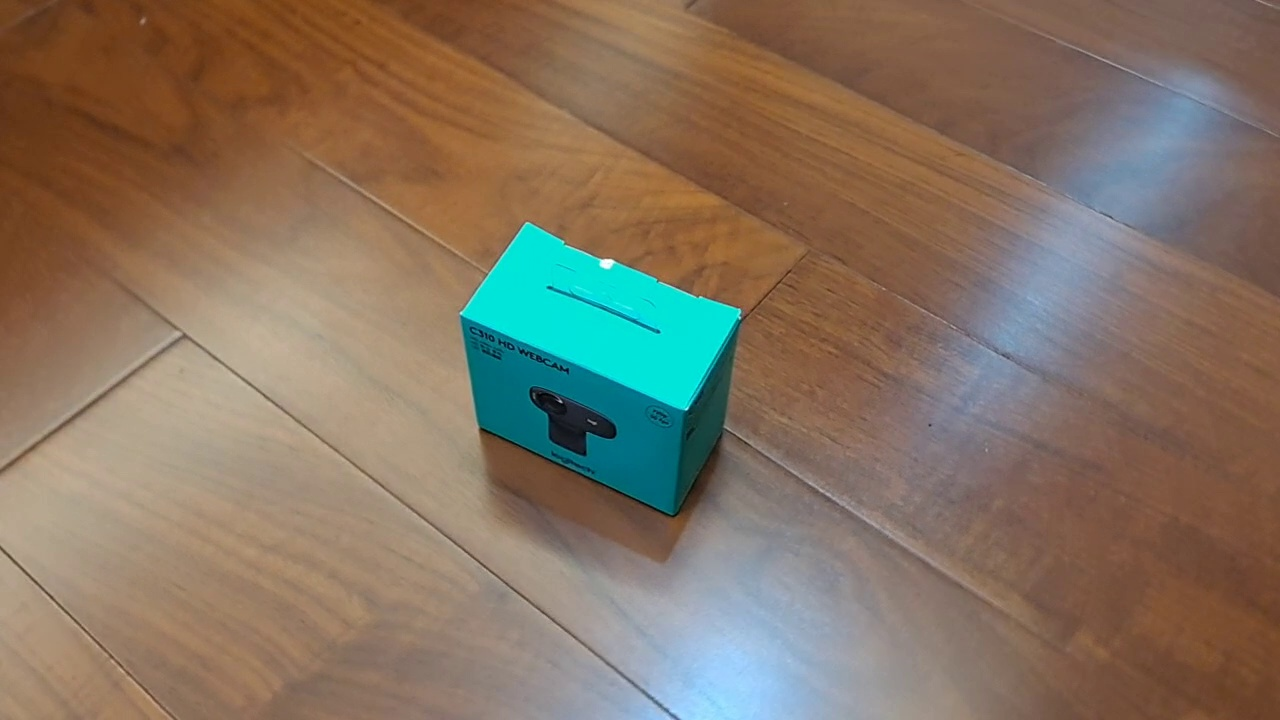webcam: (457, 220, 743, 518)
